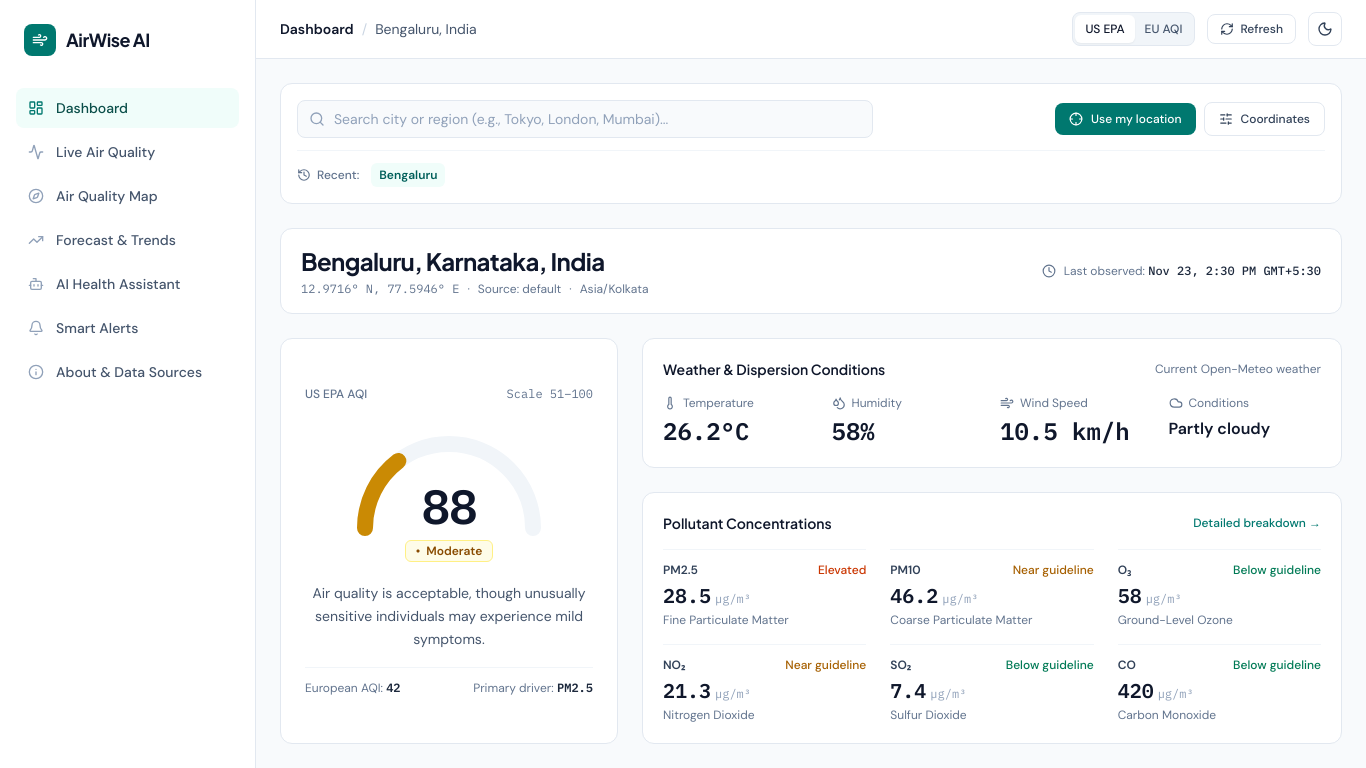
Dashboard Frontend Tests › supports debounced city search and switches location when selected
The image size is (1366, 768).
expect the text "88" is shown: met, box 421,475 -> 477,537
Type "Tokyo" into the search field named "Search city for air quality" at [585, 119], box 297,100 -> 873,138
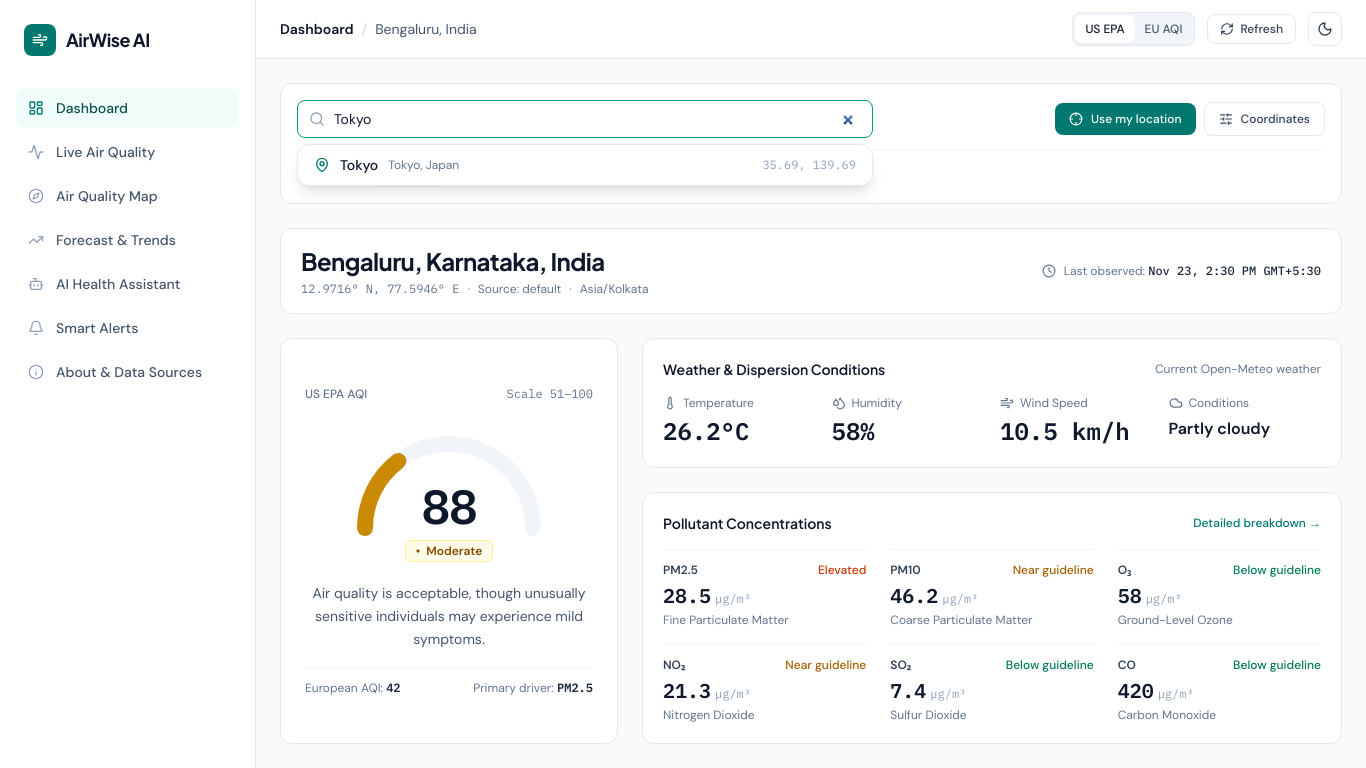
Click the option "Tokyo Tokyo, Japan 35.69, 139.69" at [359, 165], box 298,145 -> 872,185
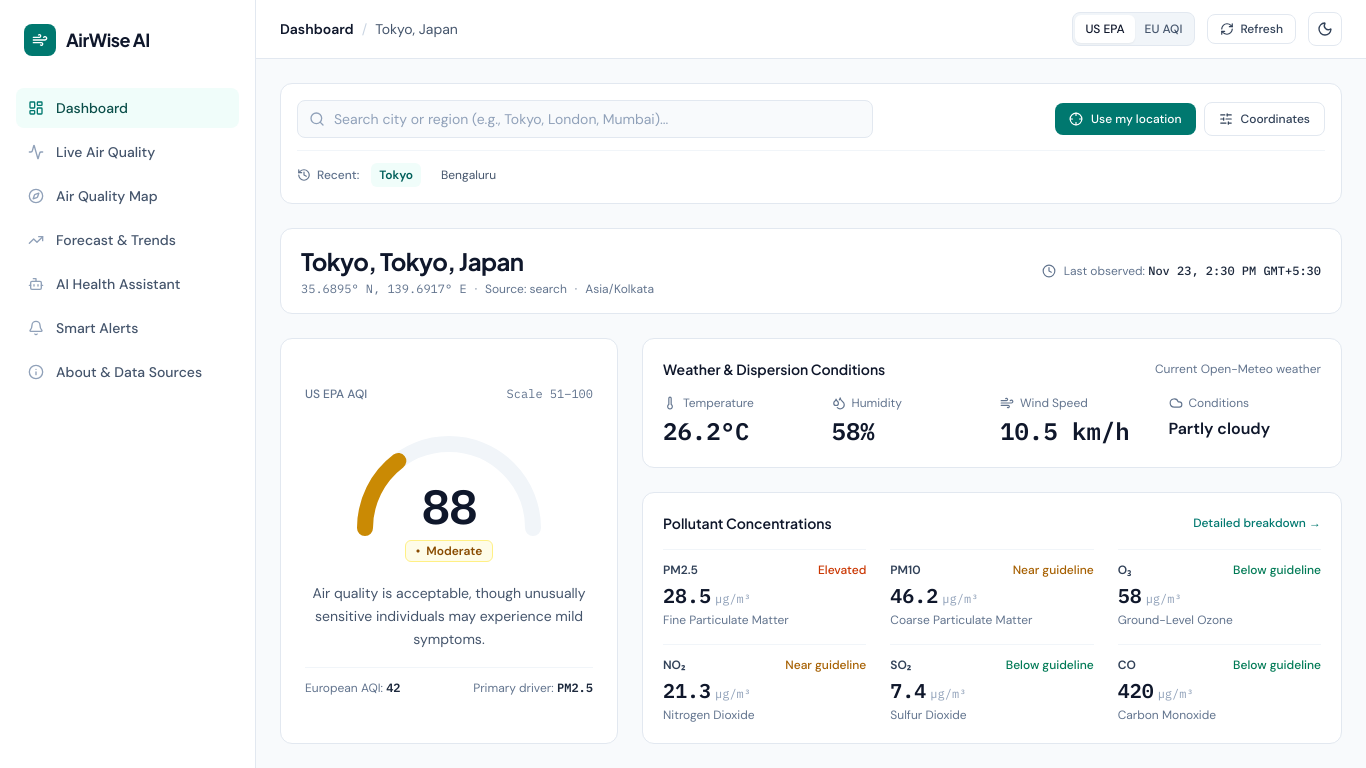
expect the heading "Tokyo, Tokyo, Japan" is shown: met, box 301,246 -> 524,276
